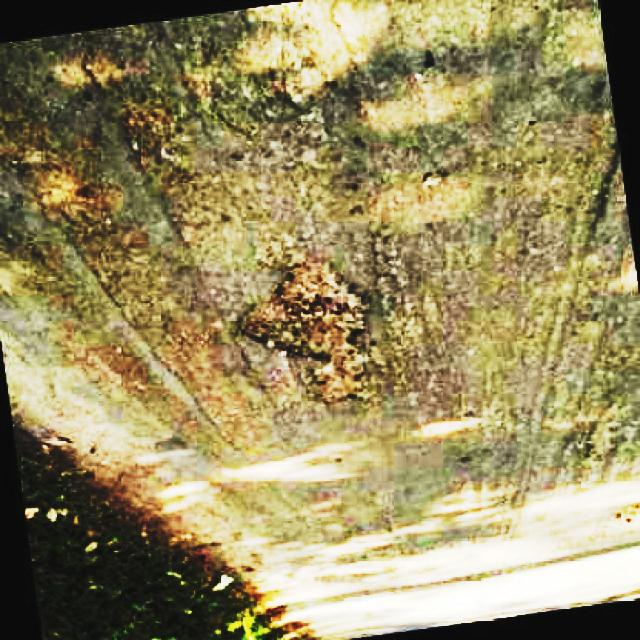pothole: (245, 257, 372, 406)
